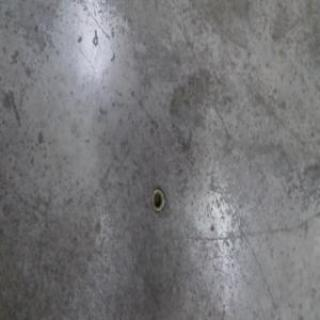Nuttrack_idkeyframe: (150, 186, 164, 214)
